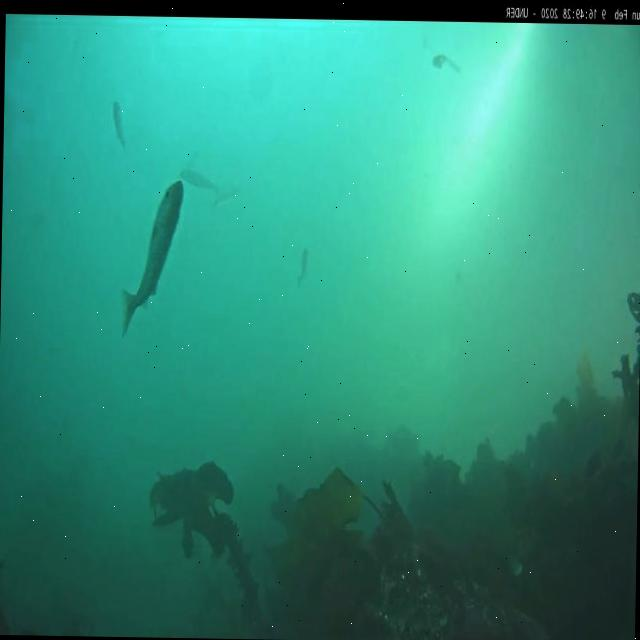fish: (120, 178, 182, 334), (180, 168, 220, 194), (112, 103, 128, 153), (295, 248, 309, 290)
